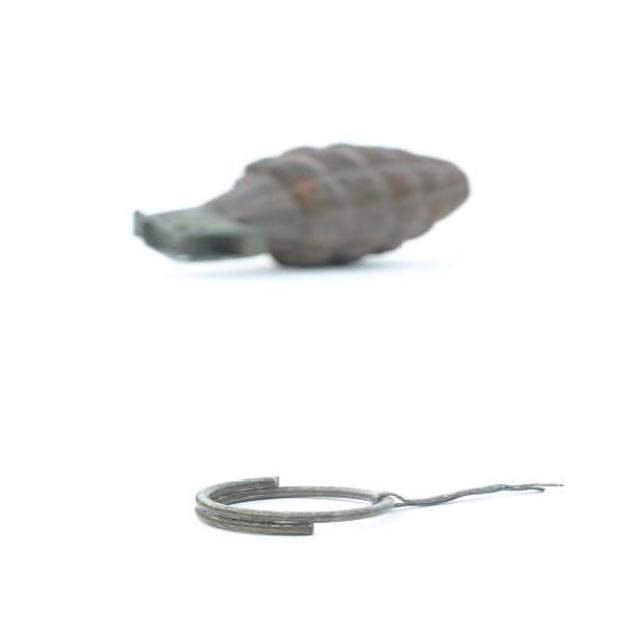grenade: (122, 133, 489, 284)
